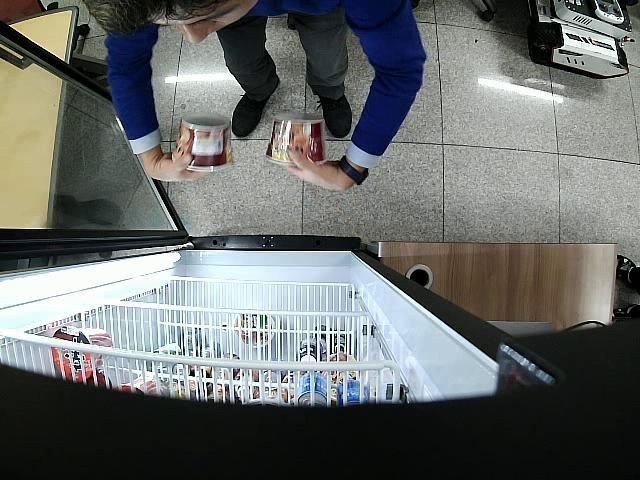05_nuguri_L: (172, 112, 235, 172), (264, 112, 326, 167)
